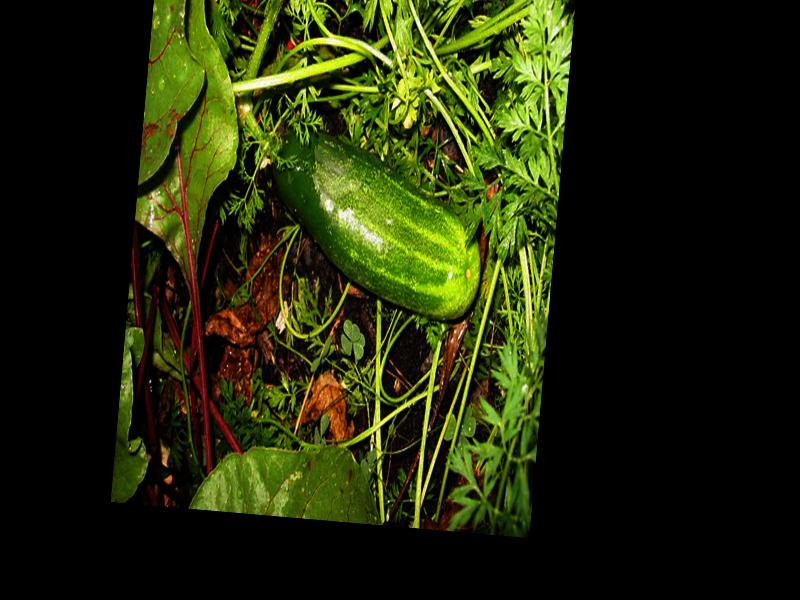Cucumber: (260, 118, 489, 324)
